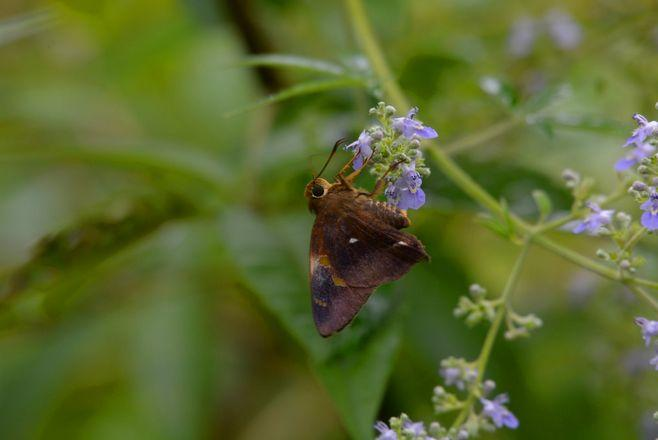Hesperiidae: (308, 137, 427, 340)
